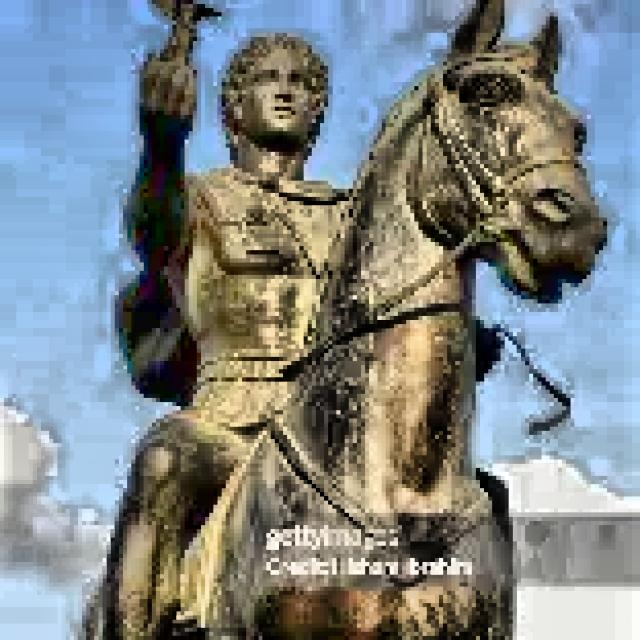alexander the great monument: (12, 0, 614, 599)
